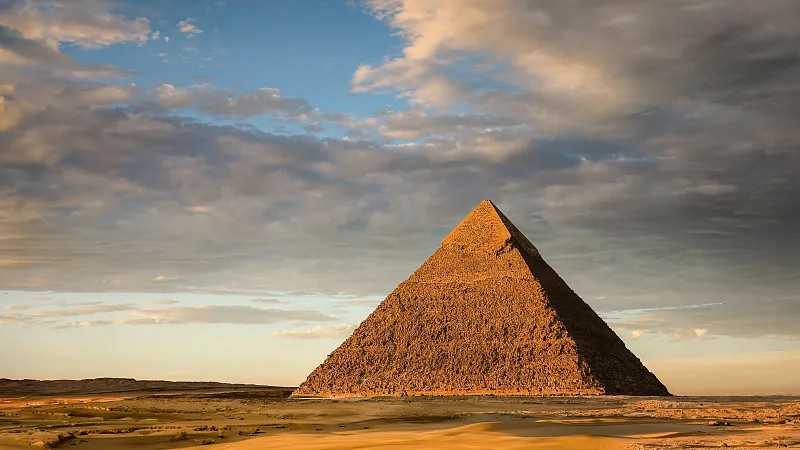Pyramid: (293, 198, 672, 398)
